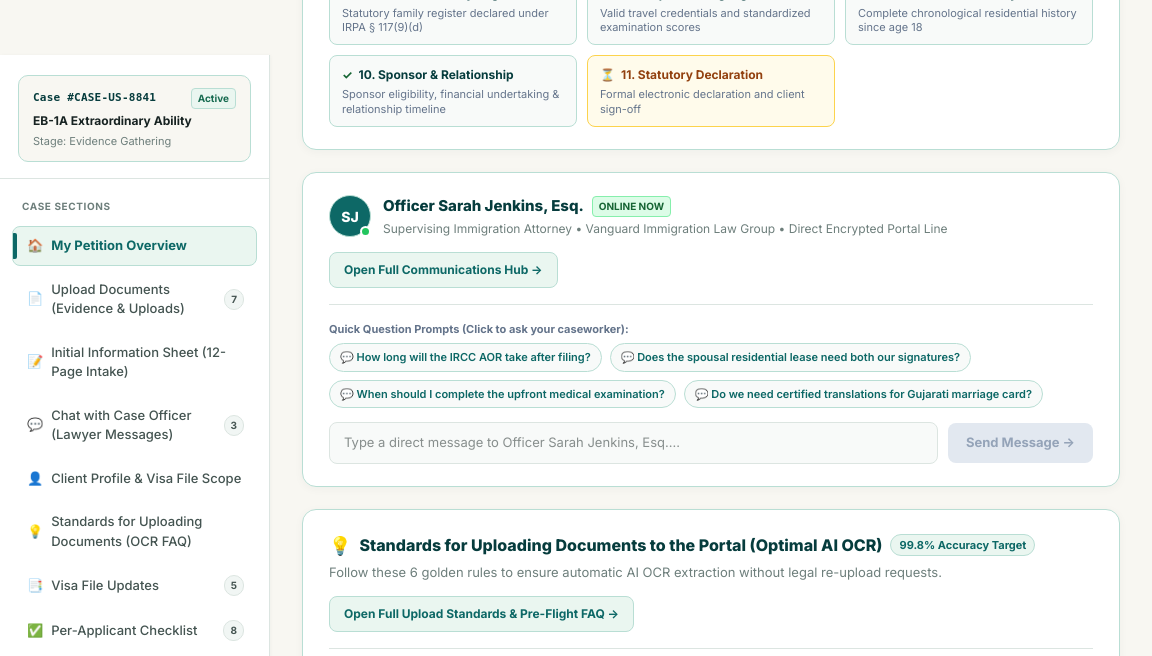
Test case: Retained Client Dashboard — Streamlined Overview, Scope, Intake & OCR FAQ › 4. Overview Panel — Chat with Assigned Case Processing Officer › pre-populates message input when clicking prompt chip and sends message
The width and height of the screenshot is (1152, 656).
(page scrolled)
Click the button "💬 How long will the IRCC AOR take after filing?" at {"x": 465, "y": 357}, box [329,343,602,372]
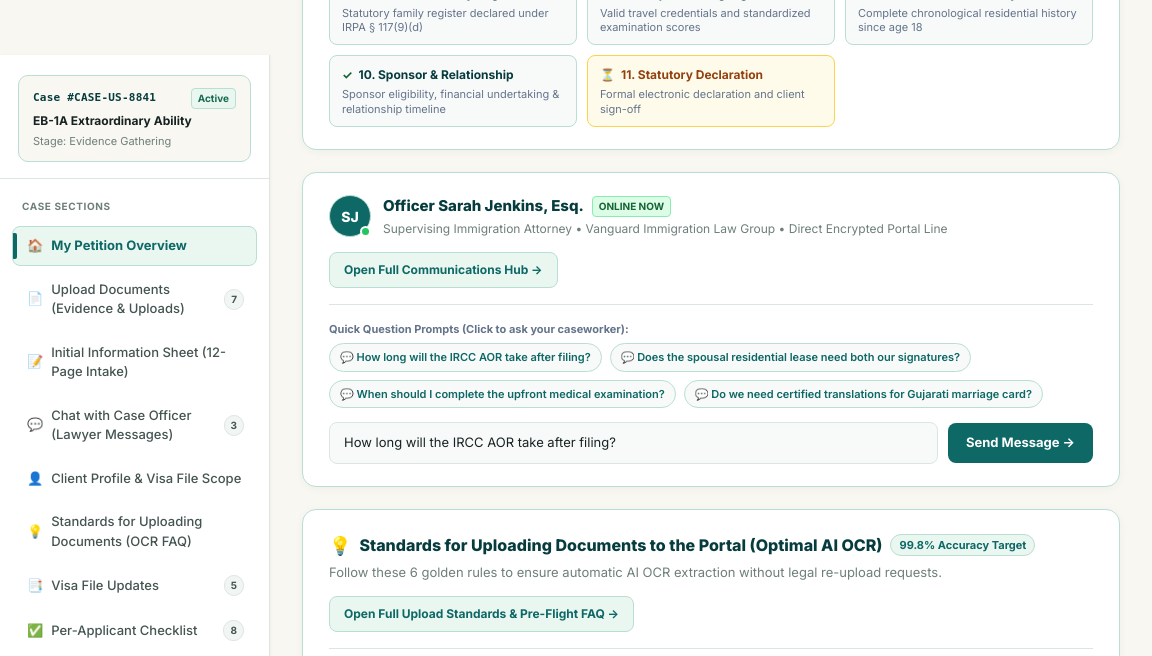
// Click Send
Click the button "Send Message →" at {"x": 1020, "y": 443}, box [948,423,1093,462]
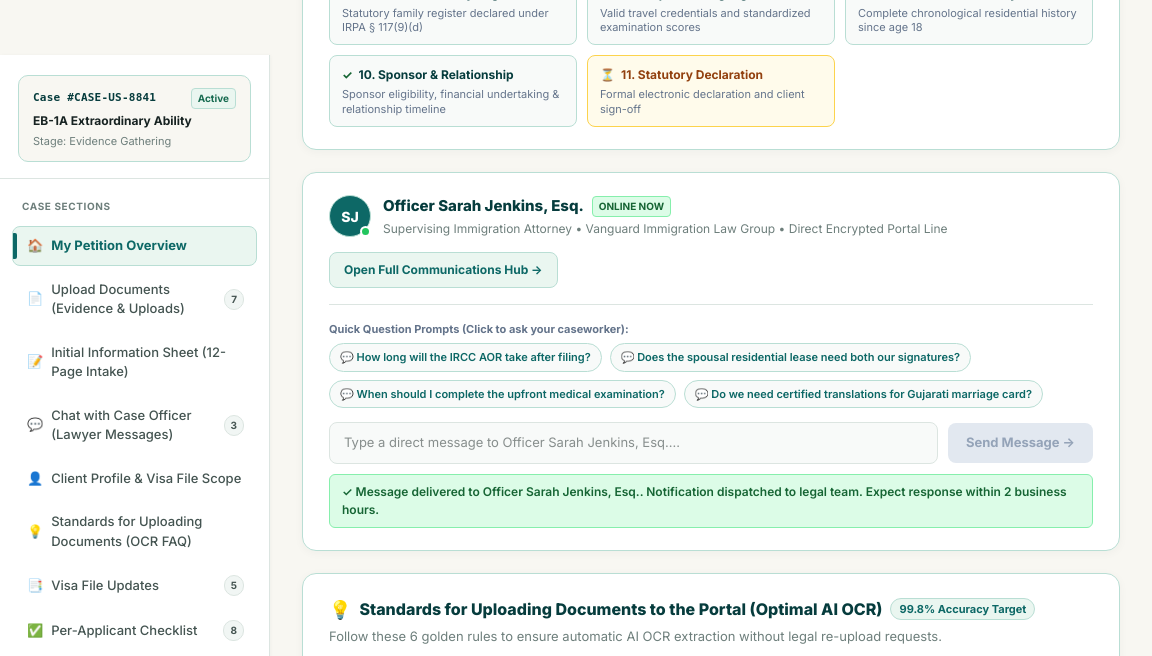
Result: the text "Message delivered to Officer Sarah Jenkins, Esq" is shown at [342,484,1067,516]
